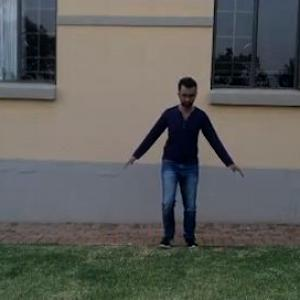land: (117, 75, 251, 253)
